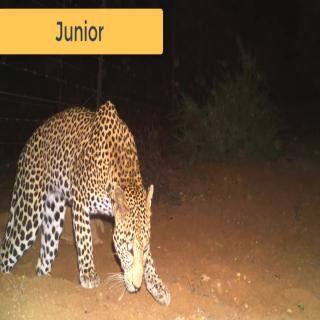Leopard: (0, 100, 172, 307)
